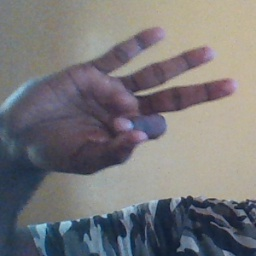K: (9, 25, 237, 178)
